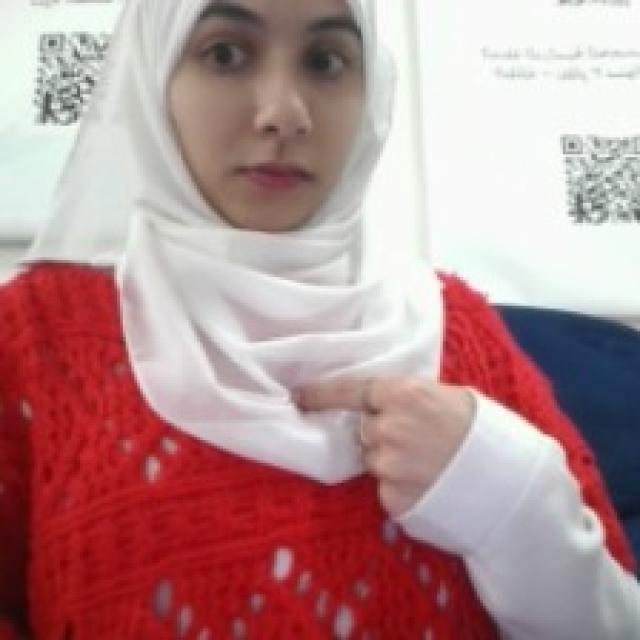me: (282, 367, 478, 522)
